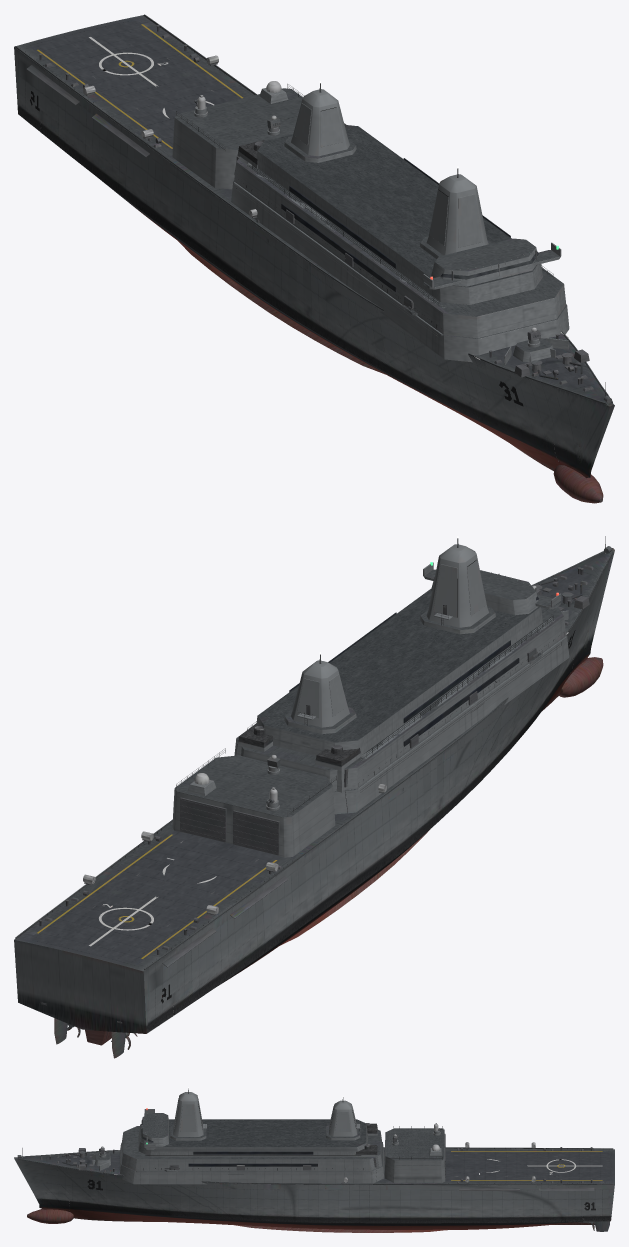
Rendered from lpd.glb.
The picture shows the model from 3 angles, top to bottom: view 1: azimuth 30°, elevation 25°; view 2: azimuth 150°, elevation 25°; view 3: azimuth 270°, elevation 25°; orthographic projection. The views are drawn at different scales.
Parts seen in each view (by area): view 1: lpd_hull, lpd_super, lpd_detail; view 2: lpd_hull, lpd_super, lpd_detail; view 3: lpd_hull, lpd_super, lpd_detail.
Part boxes in pixels (x1,y1,x2,y2): lpd_hull: (14, 15, 614, 503); lpd_super: (15, 14, 612, 404); lpd_detail: (20, 17, 605, 461); lpd_hull: (14, 548, 614, 1058); lpd_super: (15, 538, 612, 1002); lpd_detail: (20, 536, 605, 1023); lpd_hull: (14, 1148, 614, 1232); lpd_super: (17, 1088, 613, 1184); lpd_detail: (22, 1087, 609, 1219).
Size of the model in its own units: 32.14 by 52.07 by 208.
Materials: 18 (18 with a texture image).
